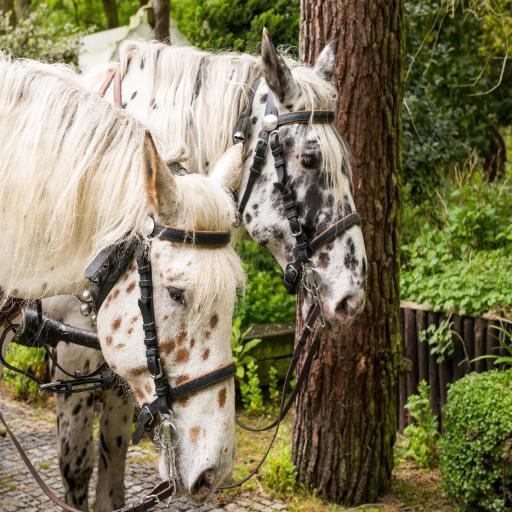horse: (38, 23, 370, 512), (0, 49, 248, 505)
